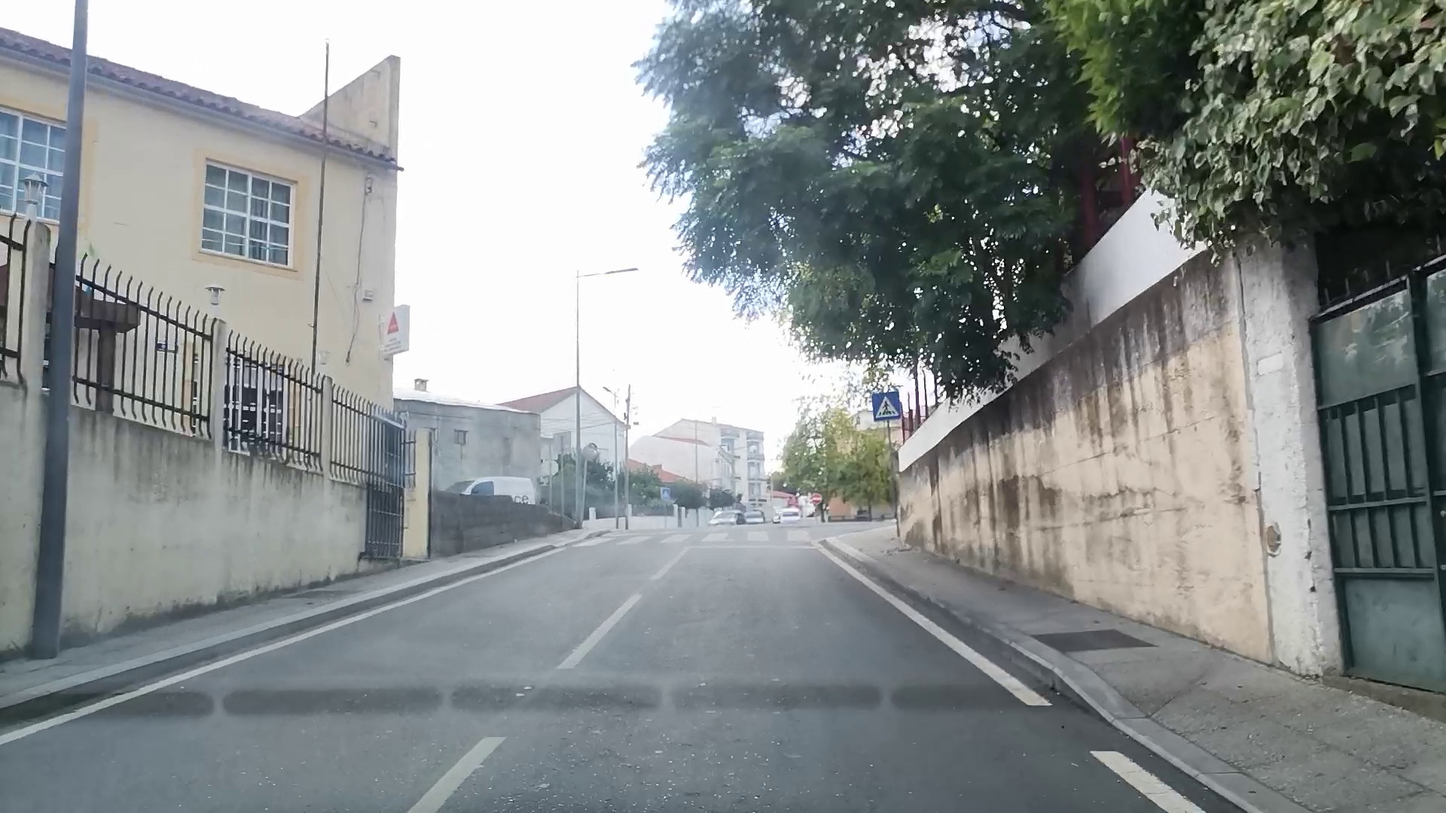Stairs: (574, 530, 819, 547)
